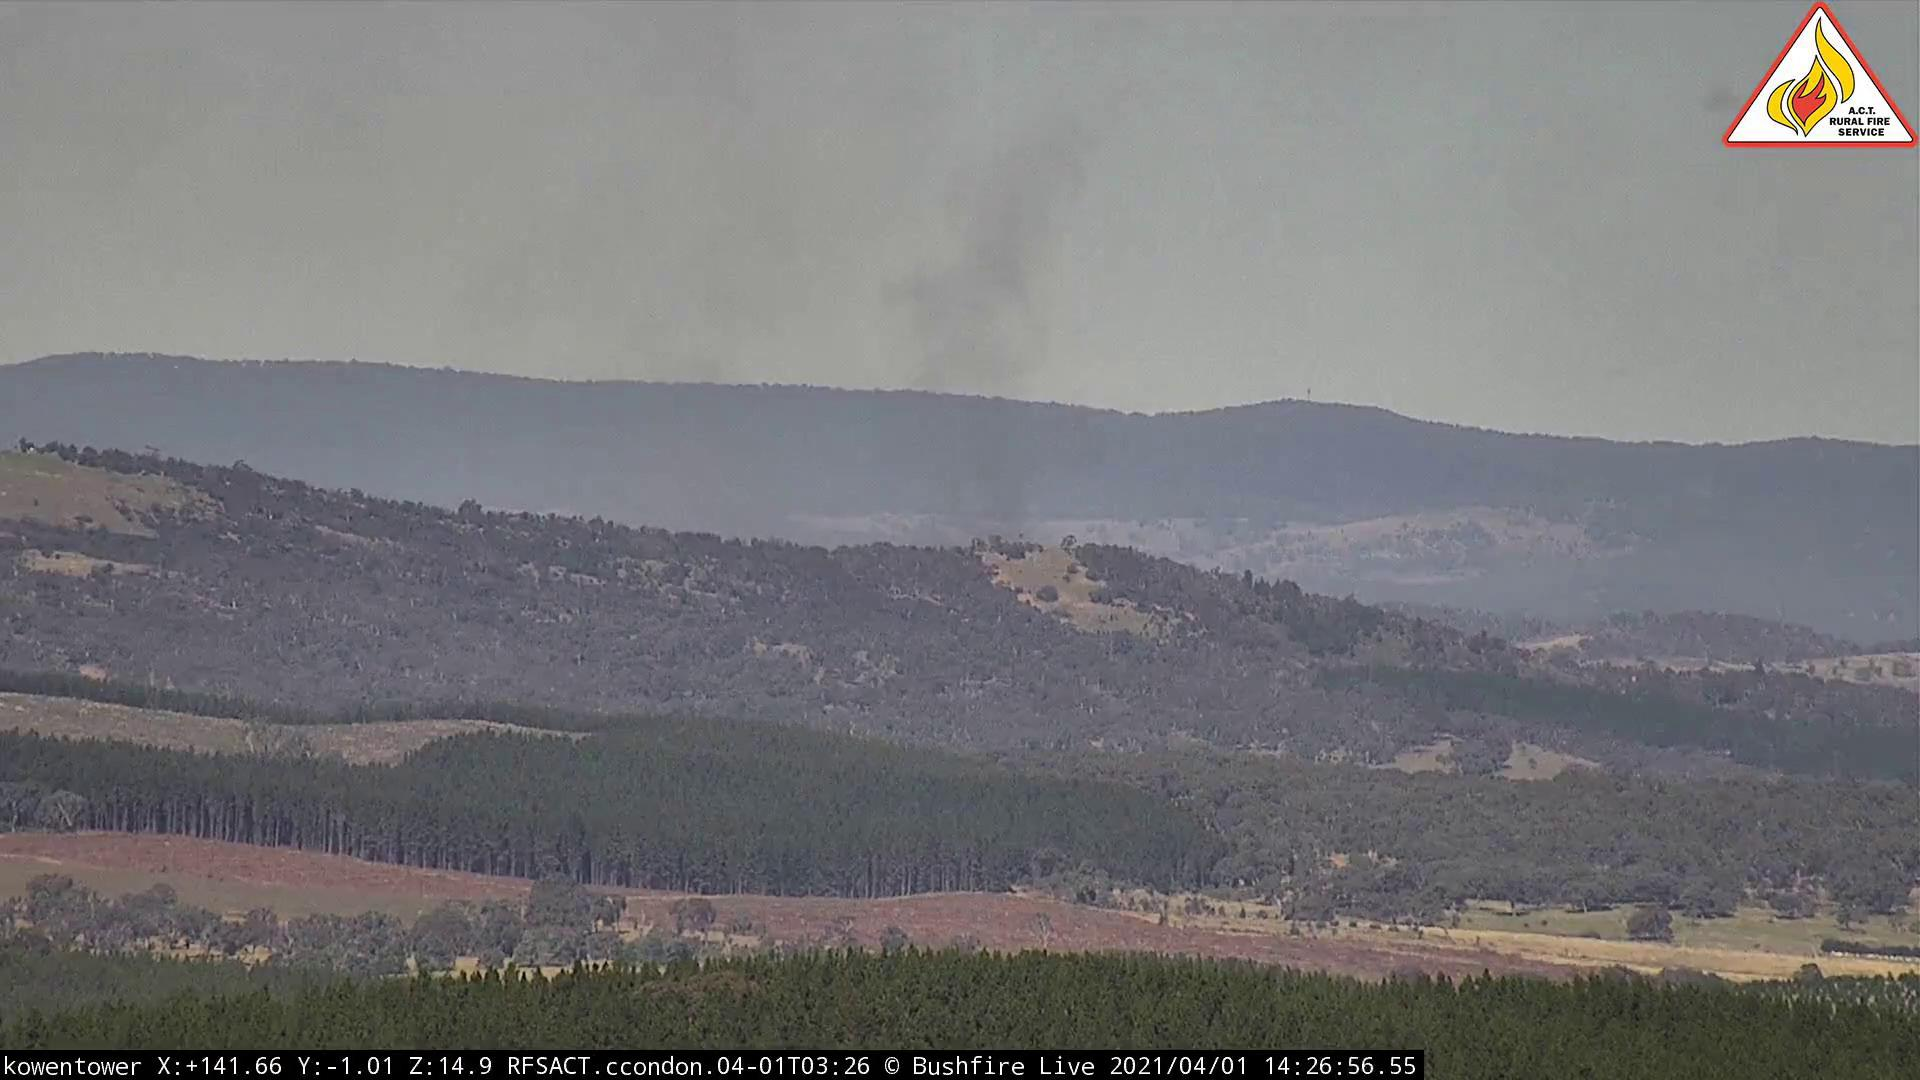Smoke: (463, 80, 1195, 588)
